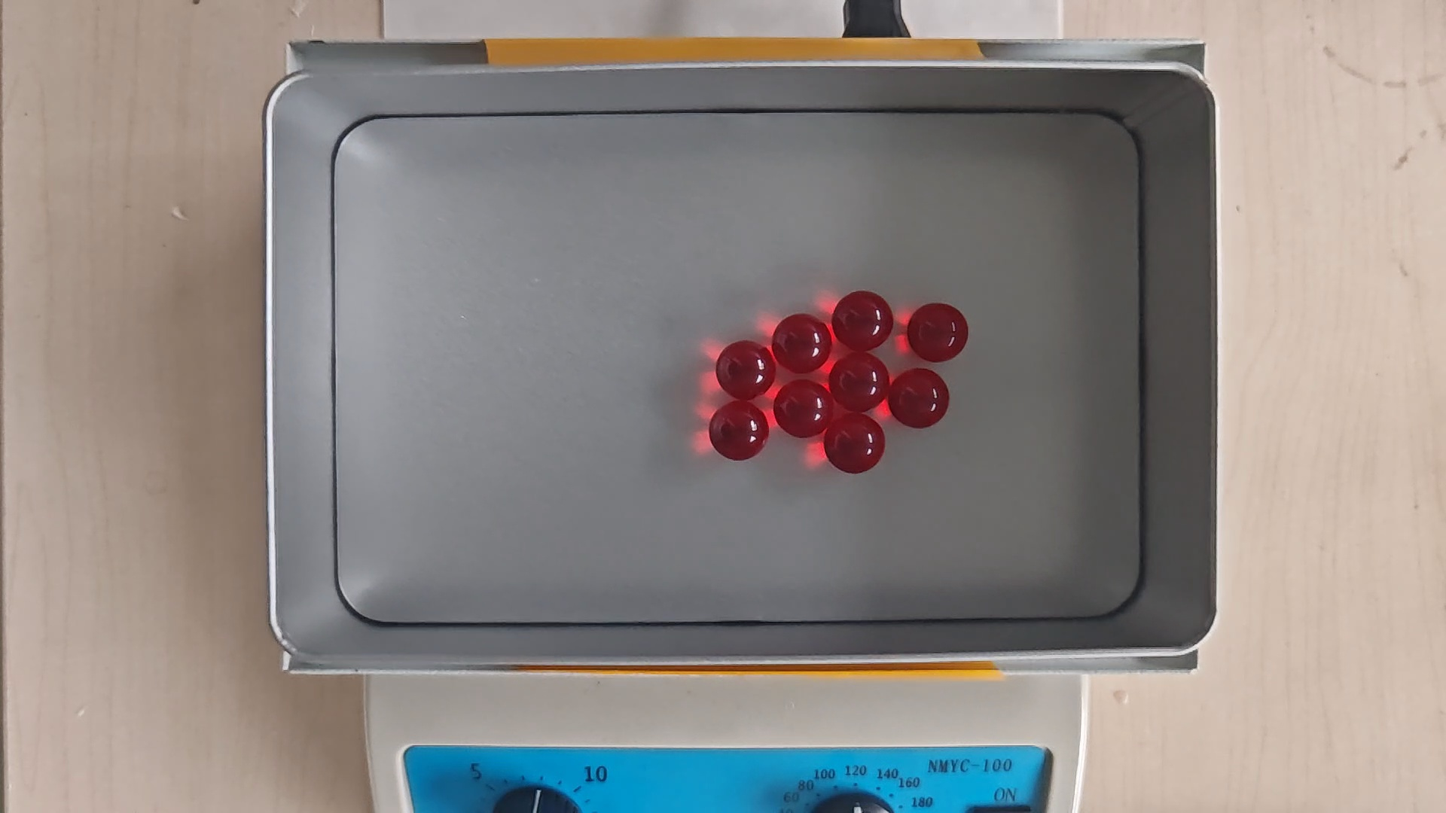ball: (828, 350, 891, 416), (888, 367, 952, 431), (904, 302, 970, 364), (822, 415, 888, 476), (831, 290, 895, 351), (772, 312, 832, 377), (709, 399, 770, 462), (715, 340, 776, 400), (773, 379, 834, 438)
container: (330, 108, 1142, 622)
